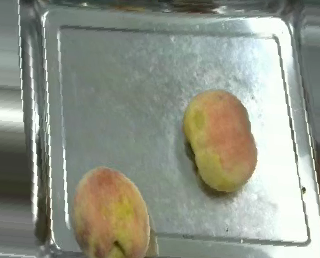Peach: (183, 90, 257, 191), (72, 165, 151, 256)
